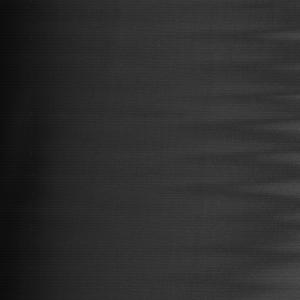Wrinkle: (160, 1, 300, 300), (1, 1, 103, 300)
